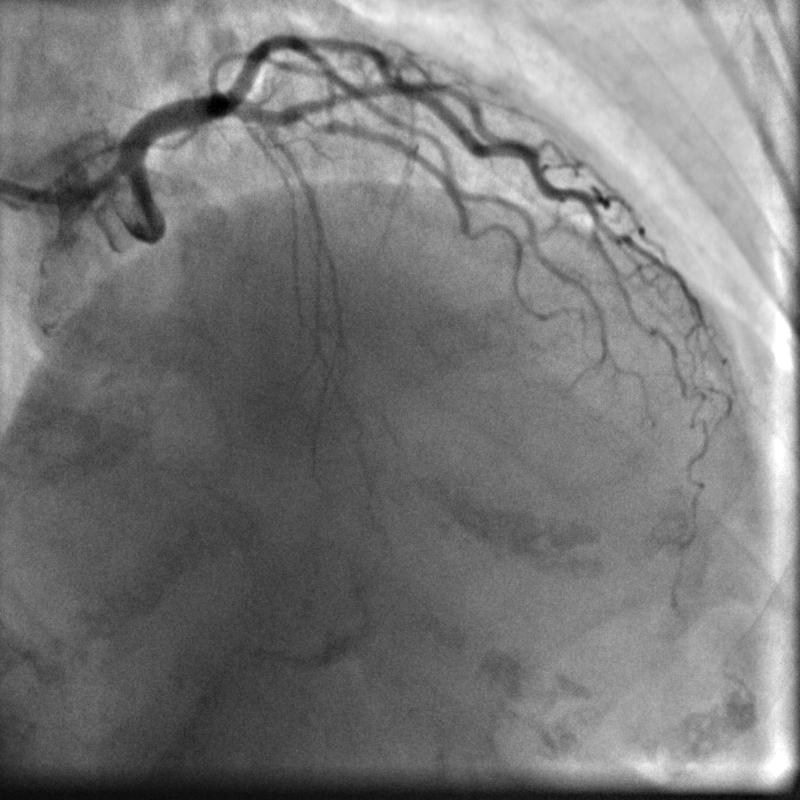Stenosis: (305, 115, 337, 134)
